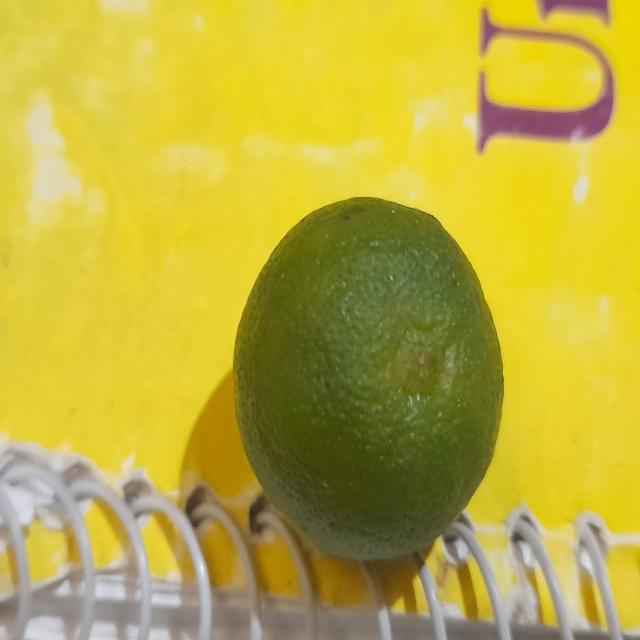heathy: (234, 190, 506, 561)
